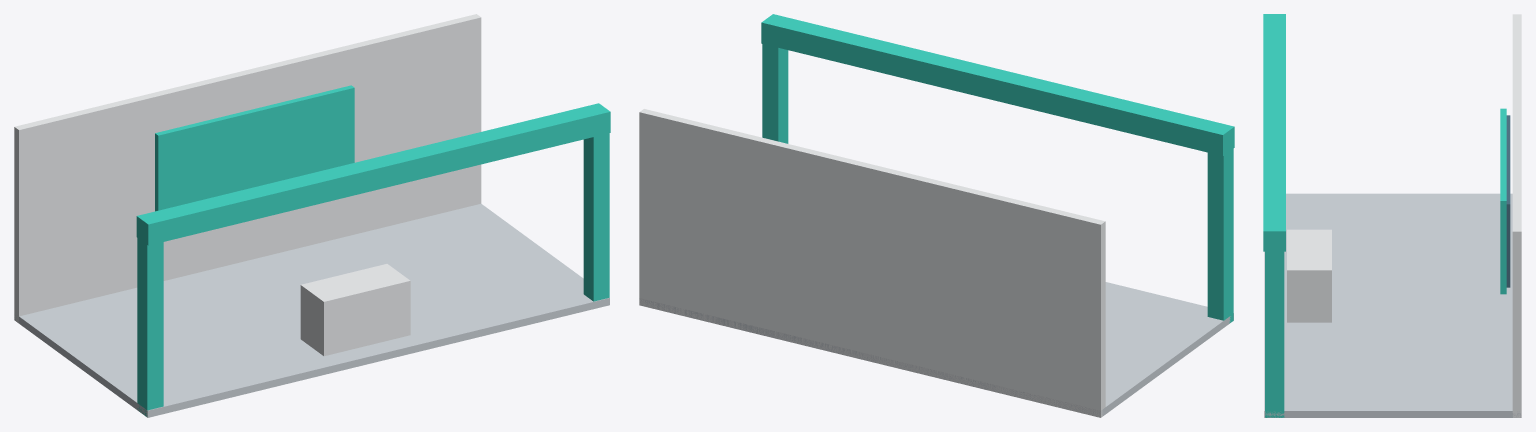
The picture shows the model from 3 angles, left to right: view 1: azimuth 30°, elevation 25°; view 2: azimuth 150°, elevation 25°; view 3: azimuth 270°, elevation 25°; orthographic projection. The views are drawn at different scales.
Visible parts, largest first — view 1: Exhibition Booth Concept; view 2: Exhibition Booth Concept; view 3: Exhibition Booth Concept.
Part boxes in pixels (box(x1,y1,x2,y2)): Exhibition Booth Concept: box(14, 14, 610, 417); Exhibition Booth Concept: box(639, 14, 1234, 417); Exhibition Booth Concept: box(1263, 14, 1521, 417).
Size of the model in its own units: 8 by 3.2 by 4.02.
